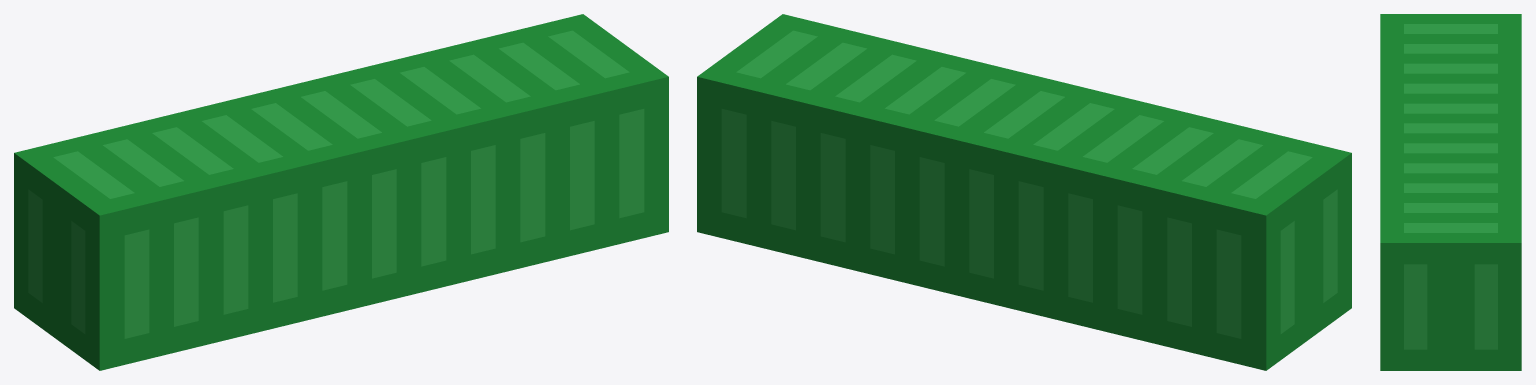
Rendered from container-green.gltf.
3 views of the same model, side by side, from view 1: azimuth 30°, elevation 25°; view 2: azimuth 150°, elevation 25°; view 3: azimuth 270°, elevation 25° (orthographic). The views are drawn at different scales.
Parts seen in each view (by area): view 1: model; view 2: model; view 3: model.
Boxes of the visible parts, x1,y1,x2,y2 form: model: (14, 14, 668, 370); model: (697, 14, 1351, 370); model: (1380, 14, 1521, 370).
Bounding box in the file's own units: 2.3 × 0.6 × 0.6.
1 material, 1 textured.
